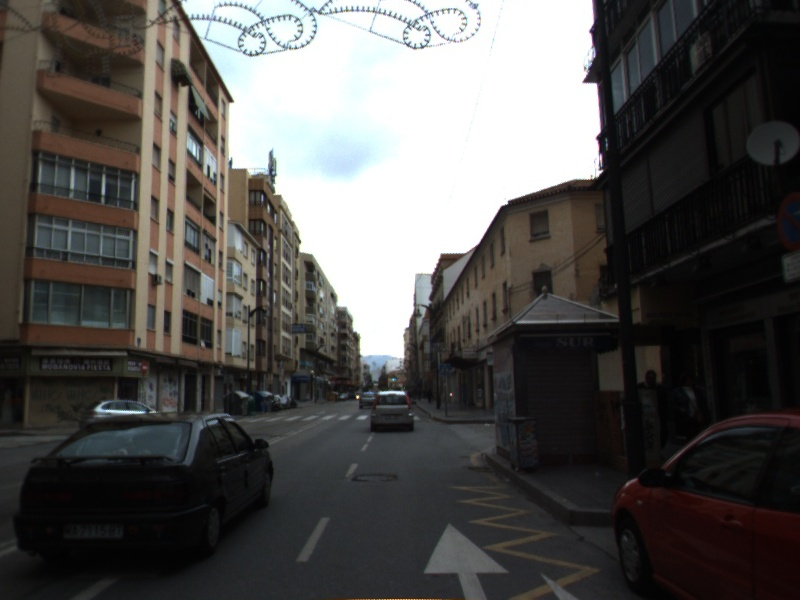STRAIGHT: (420, 518, 513, 600)
